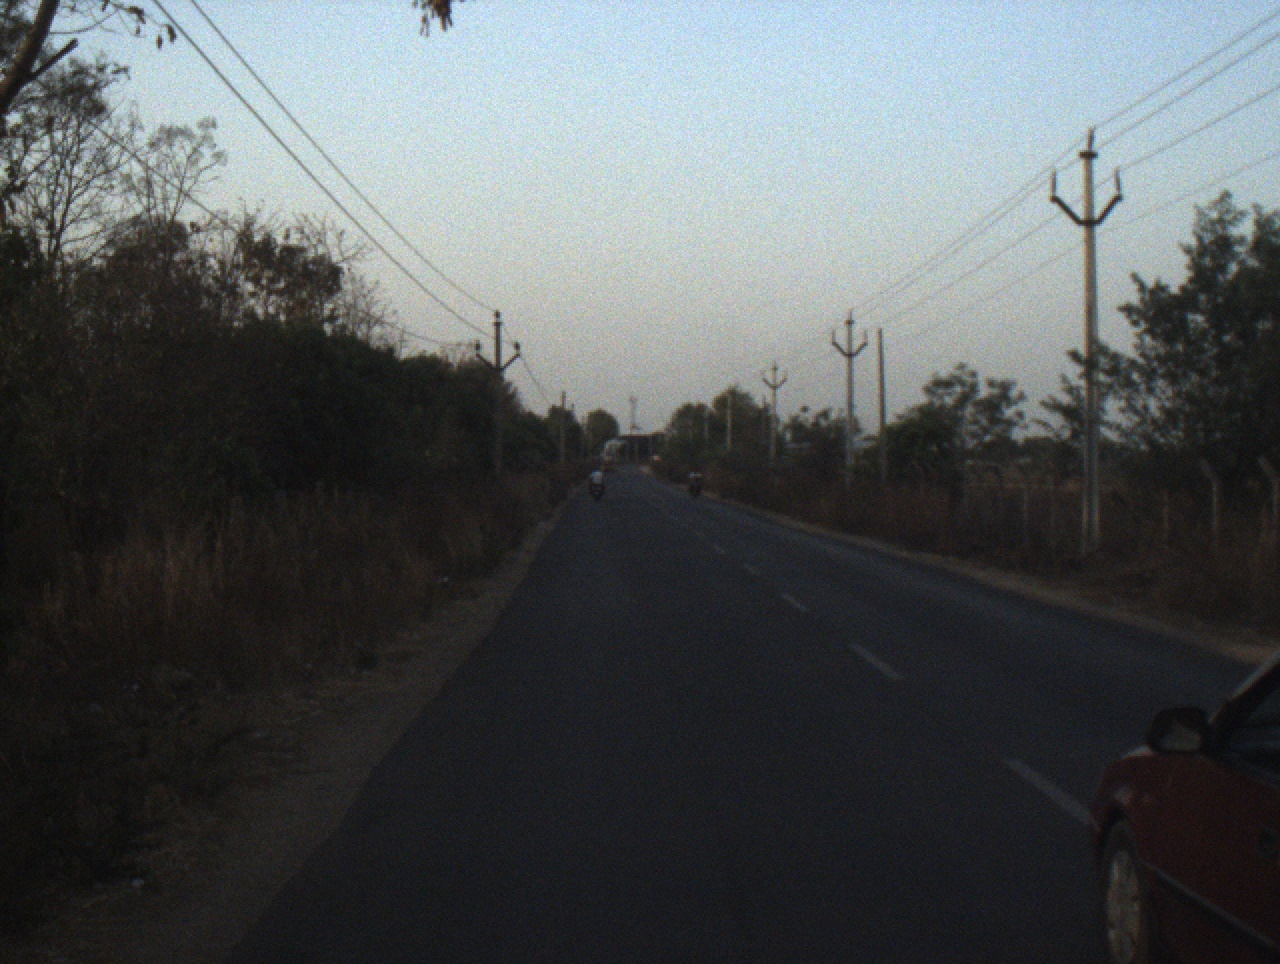autorickshaw: (601, 452, 619, 473)
car: (1067, 656, 1275, 942)
motorcycle: (687, 479, 703, 497), (588, 485, 603, 503)
rider: (584, 466, 607, 497), (688, 470, 701, 494)
vehicle fallback: (650, 451, 662, 464)
